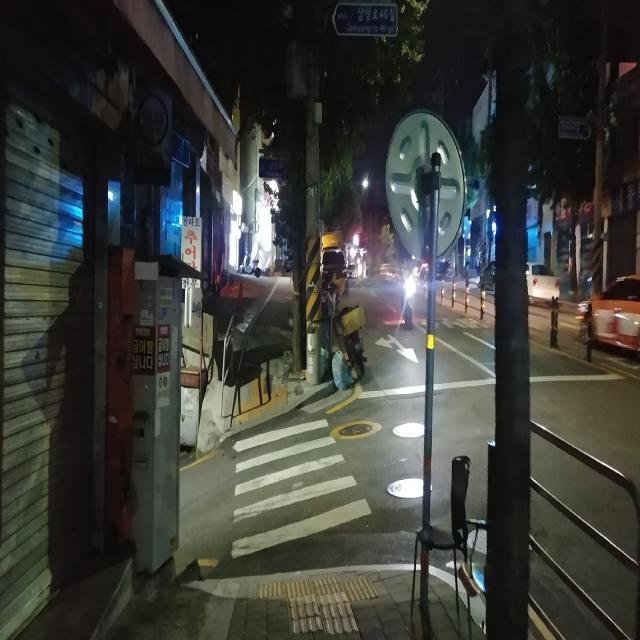횡단보도: (231, 419, 371, 559)
